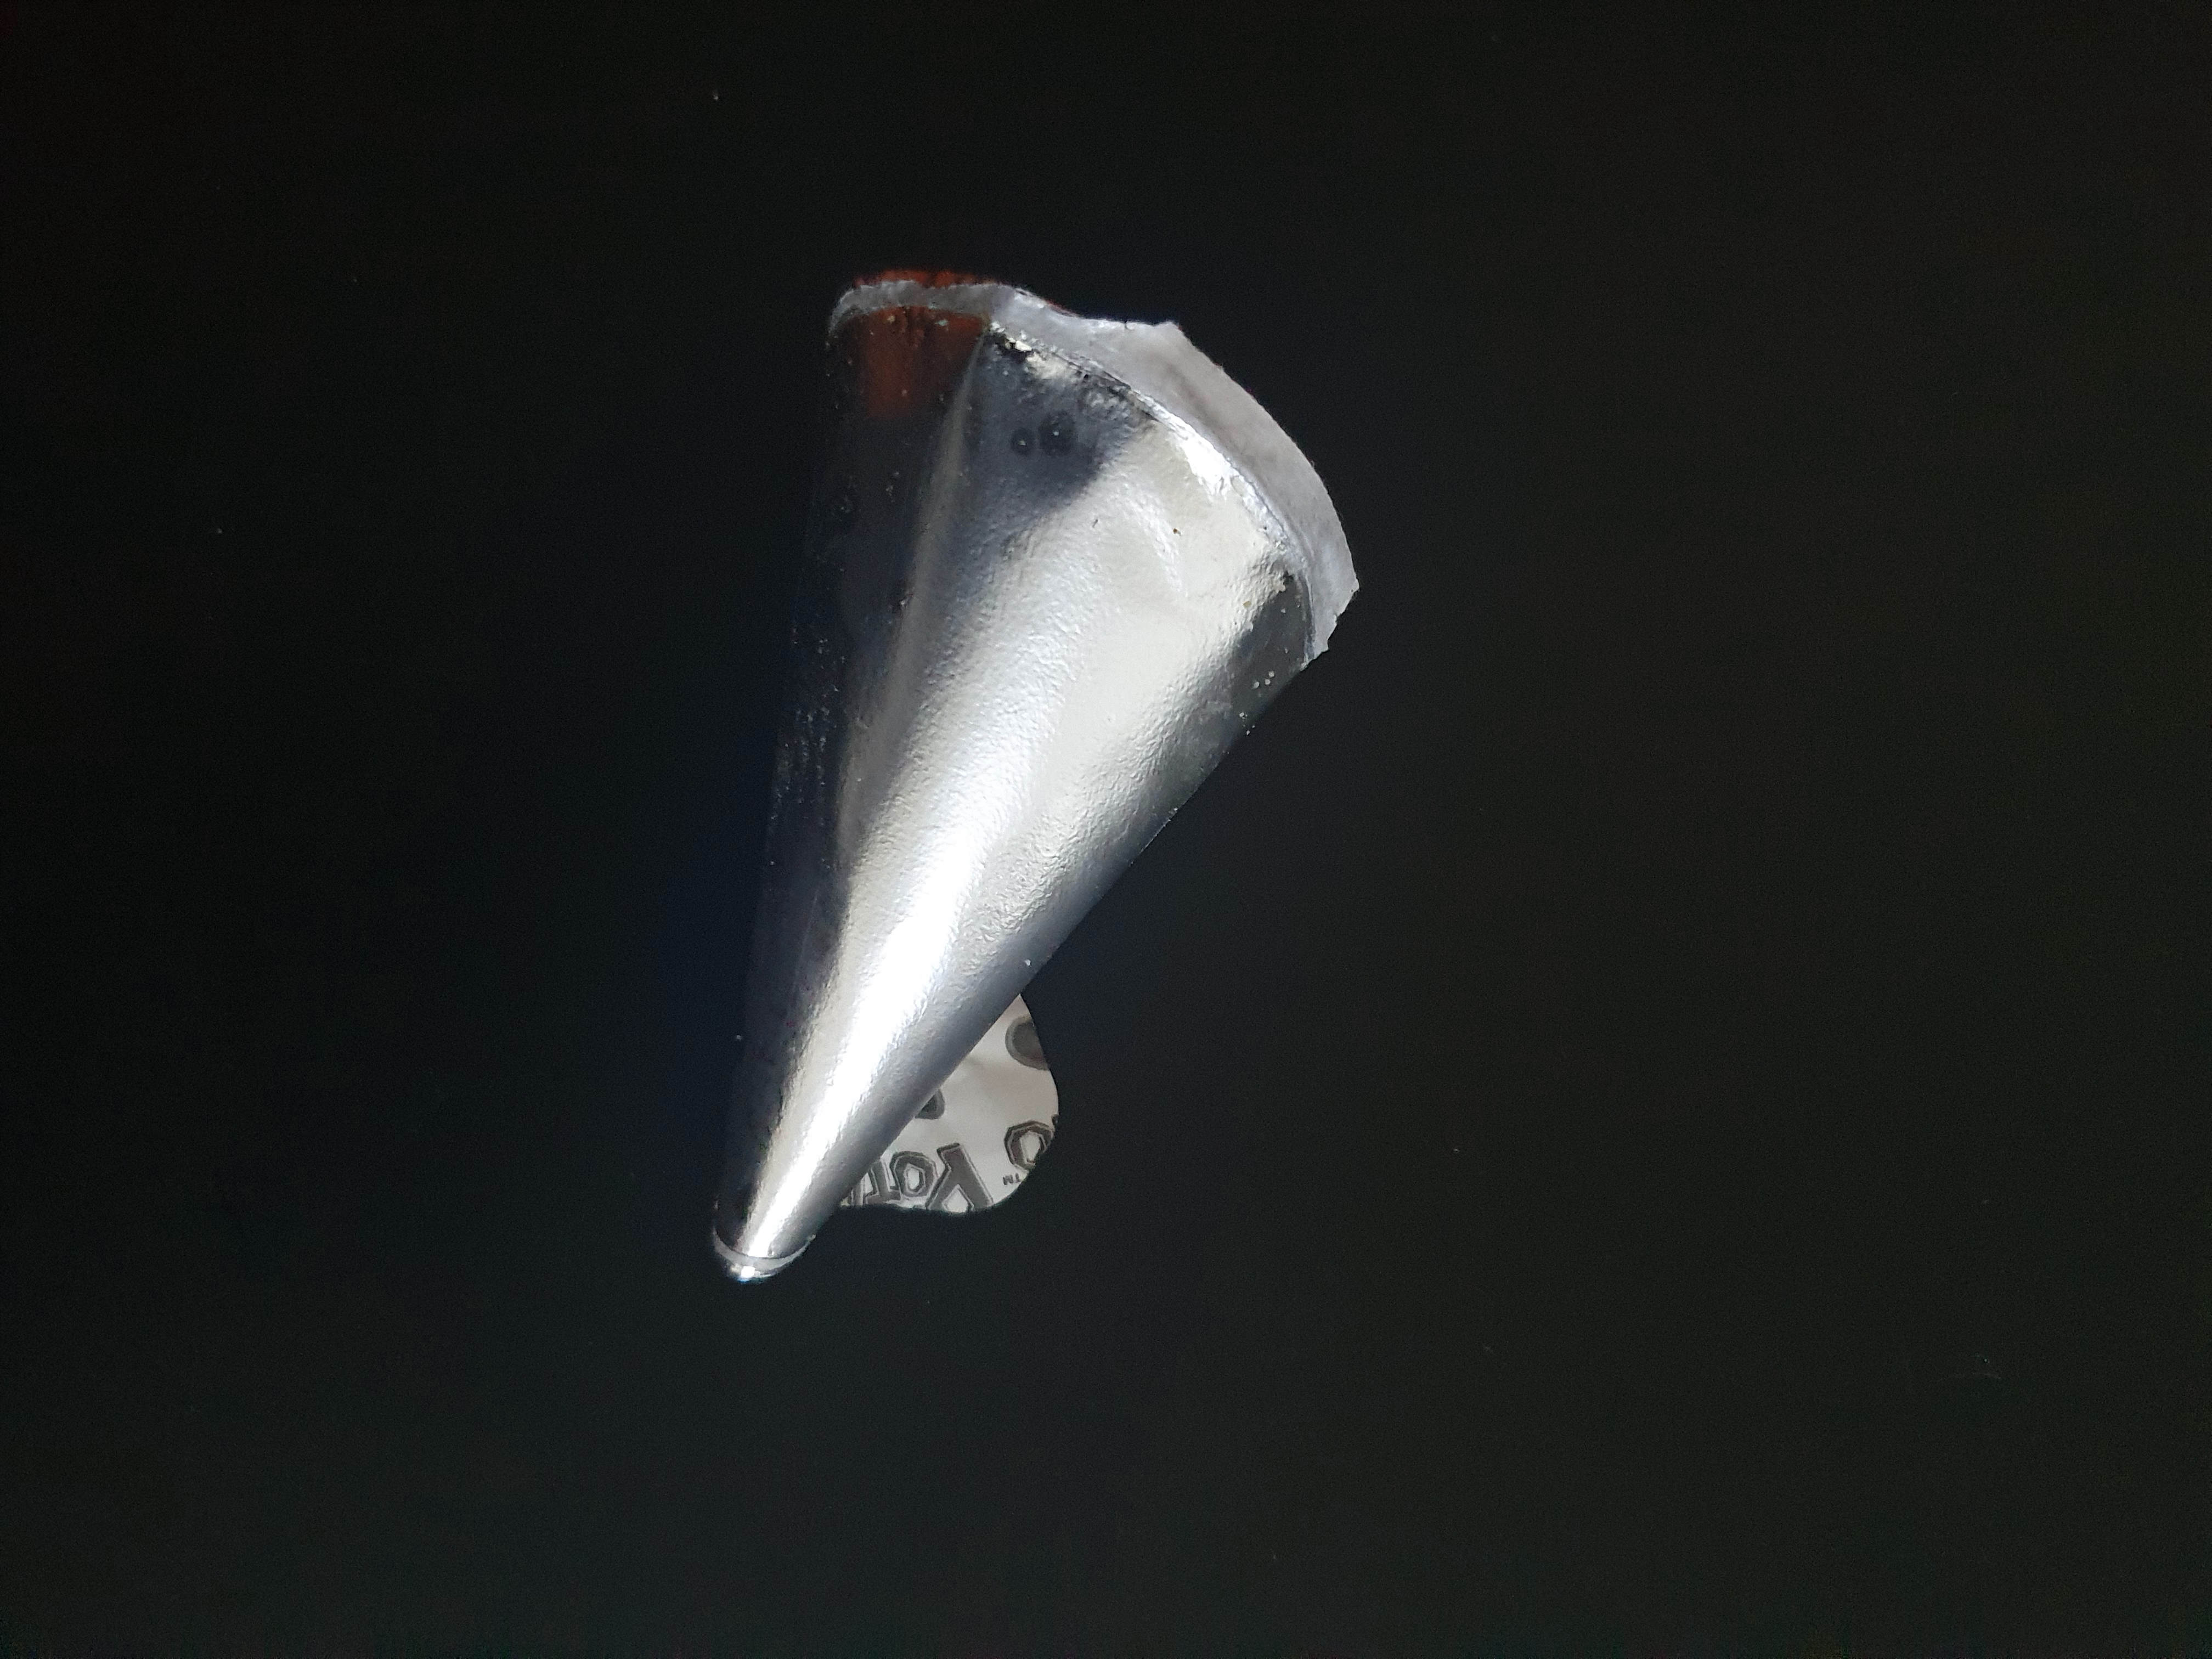metal: (636, 204, 1385, 1368)
